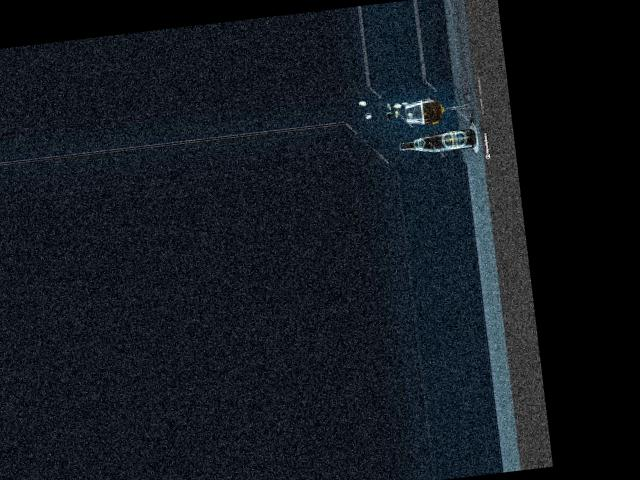beer: (398, 128, 475, 155)
